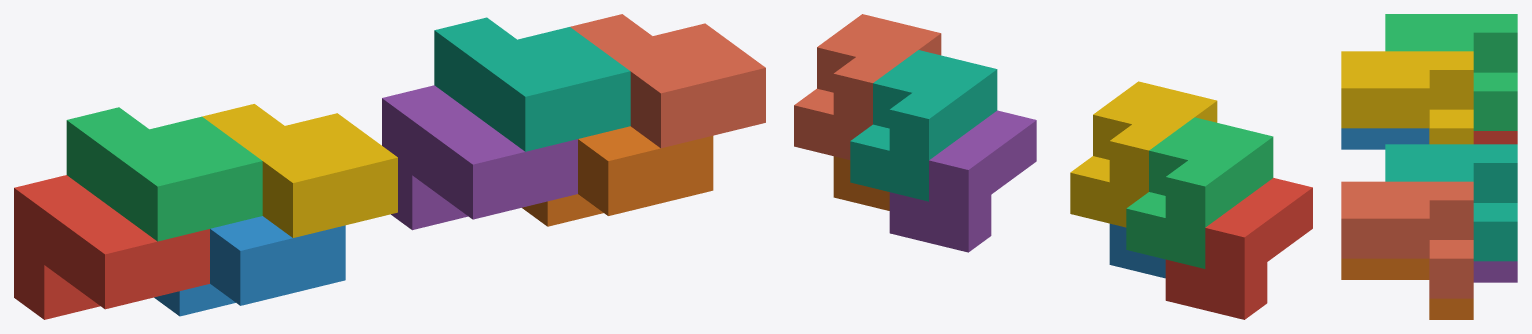
The model's file is tiling.obj.
The picture shows the model from 3 angles, left to right: view 1: azimuth 30°, elevation 25°; view 2: azimuth 150°, elevation 25°; view 3: azimuth 270°, elevation 25°; orthographic projection. The views are drawn at different scales.
Visible parts, largest first — view 1: copy_1_domain_1, copy_1_domain_3, copy_1_domain_7, copy_1_domain_5, copy_1_domain_8, copy_1_domain_4, copy_1_domain_2, copy_1_domain_6; view 2: copy_1_domain_3, copy_1_domain_7, copy_1_domain_5, copy_1_domain_1, copy_1_domain_4, copy_1_domain_8, copy_1_domain_2, copy_1_domain_6; view 3: copy_1_domain_8, copy_1_domain_4, copy_1_domain_7, copy_1_domain_3, copy_1_domain_6, copy_1_domain_2, copy_1_domain_5, copy_1_domain_1.
Part boxes in pixels (x1,y1,x2,y2): copy_1_domain_1: [14, 175, 209, 319]; copy_1_domain_3: [66, 107, 262, 241]; copy_1_domain_7: [434, 17, 630, 151]; copy_1_domain_5: [382, 85, 577, 230]; copy_1_domain_8: [570, 14, 765, 148]; copy_1_domain_4: [202, 104, 397, 237]; copy_1_domain_2: [154, 216, 345, 316]; copy_1_domain_6: [522, 126, 713, 226]; copy_1_domain_3: [1126, 117, 1273, 268]; copy_1_domain_7: [850, 50, 997, 201]; copy_1_domain_5: [889, 110, 1036, 252]; copy_1_domain_1: [1165, 178, 1312, 319]; copy_1_domain_4: [1070, 81, 1217, 227]; copy_1_domain_8: [794, 14, 941, 159]; copy_1_domain_2: [1109, 223, 1165, 278]; copy_1_domain_6: [833, 156, 889, 210]; copy_1_domain_8: [1341, 181, 1473, 298]; copy_1_domain_4: [1341, 51, 1473, 144]; copy_1_domain_7: [1385, 144, 1517, 261]; copy_1_domain_3: [1385, 14, 1517, 130]; copy_1_domain_6: [1341, 258, 1473, 319]; copy_1_domain_2: [1341, 128, 1429, 149]; copy_1_domain_5: [1473, 261, 1517, 282]; copy_1_domain_1: [1473, 131, 1517, 144].
Bounding box in the file's own units: 12 × 3 × 4.
